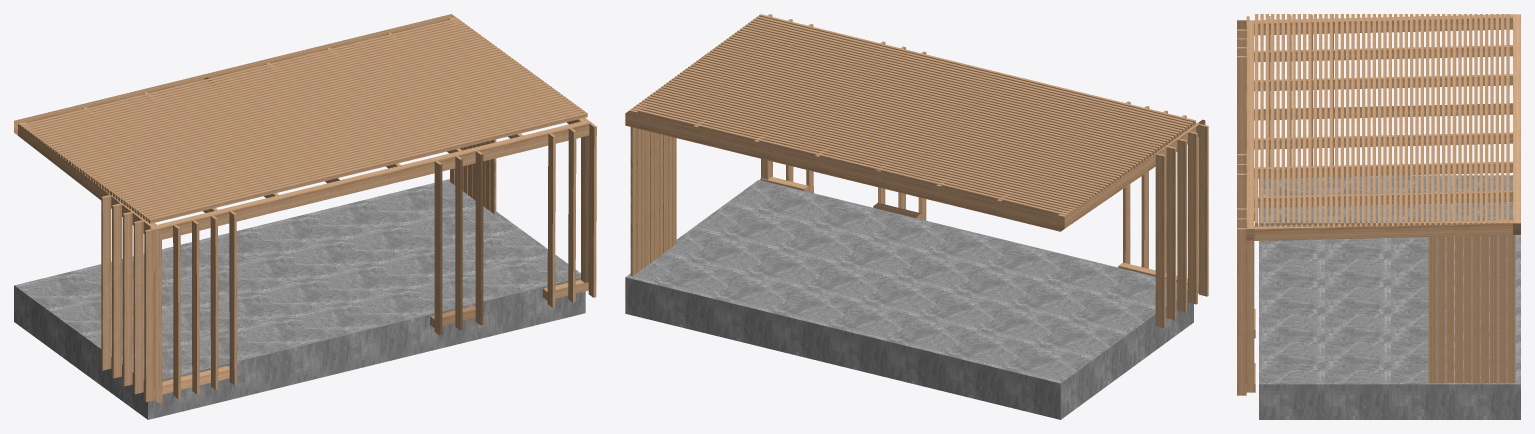
Rendered from pegrola_-_micha.xml.glb.
3 views of the same model, side by side, from view 1: azimuth 30°, elevation 25°; view 2: azimuth 150°, elevation 25°; view 3: azimuth 270°, elevation 25° (orthographic). The views are drawn at different scales.
Visible parts, largest first — view 1: Material3, Material4 (×21), dense_beam_0, dense_beam_19, dense_beam_4, dense_beam_11, dense_beam_8, dense_beam_12, dense_beam_16, dense_beam_1, dense_beam_7, dense_beam_9 (+38 smaller); view 2: Material3, Material4 (×9), dense_beam_47, dense_beam_19, dense_beam_3, dense_beam_16, dense_beam_22, dense_beam_12, dense_beam_2, dense_beam_4, dense_beam_9, dense_beam_13 (+48 smaller); view 3: Material3, Material4 (×14), wall_beam_rotated_node_8, wall_beam_rotated_node_9, wall_beam_rotated_node_4, wall_beam_rotated_node_5, wall_beam_rotated_node_1, wall_beam_rotated_node_0, wall_beam_rotated_node_7, wall_beam_rotated_node_6, wall_beam_rotated_node_2, wall_beam_rotated_node_3 (+48 smaller).
Boxes of the visible parts, <box> form: Material3: <box>14,179,585,419</box>; Material4 (×21): <box>14,14,596,403</box>; dense_beam_0: <box>148,112,587,223</box>; dense_beam_19: <box>96,74,535,185</box>; dense_beam_4: <box>137,104,576,215</box>; dense_beam_11: <box>118,90,557,201</box>; dense_beam_8: <box>126,96,565,207</box>; dense_beam_12: <box>115,88,554,199</box>; dense_beam_16: <box>104,80,543,191</box>; dense_beam_1: <box>145,110,584,221</box>; dense_beam_7: <box>129,98,568,209</box>; dense_beam_9: <box>123,94,562,205</box>; Material3: <box>625,180,1193,419</box>; Material4 (×9): <box>625,101,1208,327</box>; dense_beam_47: <box>631,108,1067,216</box>; dense_beam_19: <box>707,52,1144,163</box>; dense_beam_3: <box>750,20,1187,131</box>; dense_beam_16: <box>715,46,1152,157</box>; dense_beam_22: <box>699,58,1136,168</box>; dense_beam_12: <box>726,38,1163,149</box>; dense_beam_2: <box>753,18,1190,129</box>; dense_beam_4: <box>748,22,1185,133</box>; dense_beam_9: <box>734,32,1171,143</box>; dense_beam_13: <box>723,40,1160,151</box>; Material3: <box>1259,175,1520,419</box>; Material4 (×14): <box>1237,14,1520,395</box>; wall_beam_rotated_node_8: <box>1498,235,1506,382</box>; wall_beam_rotated_node_9: <box>1507,235,1515,382</box>; wall_beam_rotated_node_4: <box>1463,236,1471,382</box>; wall_beam_rotated_node_5: <box>1472,236,1480,382</box>; wall_beam_rotated_node_1: <box>1437,236,1445,382</box>; wall_beam_rotated_node_0: <box>1428,237,1436,382</box>; wall_beam_rotated_node_7: <box>1490,235,1497,382</box>; wall_beam_rotated_node_6: <box>1481,235,1488,382</box>; wall_beam_rotated_node_2: <box>1446,236,1453,382</box>; wall_beam_rotated_node_3: <box>1455,236,1462,382</box>.
Size of the model in its own units: 301 by 130 by 170.
2 materials, 2 textured.
